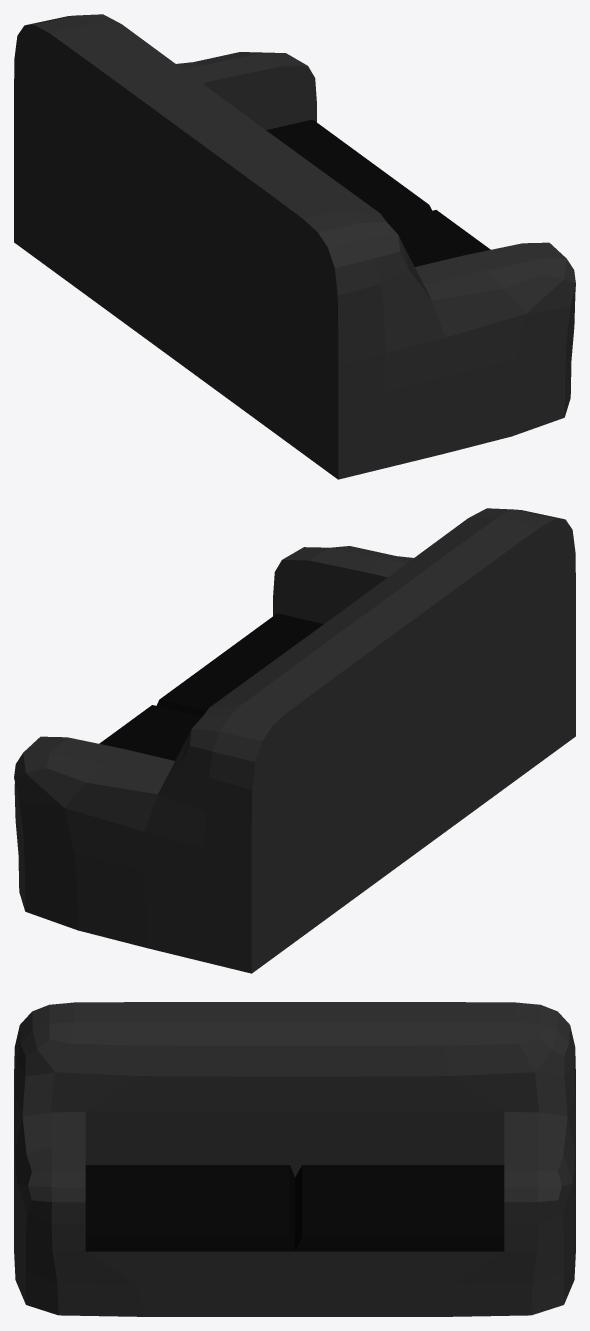
File: couch.glb
The picture shows the model from 3 angles, top to bottom: view 1: azimuth 30°, elevation 25°; view 2: azimuth 150°, elevation 25°; view 3: azimuth 270°, elevation 25°; orthographic projection. The views are drawn at different scales.
Parts seen in each view (by area): view 1: couch; view 2: couch; view 3: couch.
Part boxes in pixels (box(x1,y1,x2,y2)): couch: box(14, 14, 575, 479); couch: box(14, 508, 575, 973); couch: box(14, 1002, 575, 1316).
Size of the model in its own units: 0.9326 by 0.8016 by 2.
Materials: 1 (1 with a texture image).
